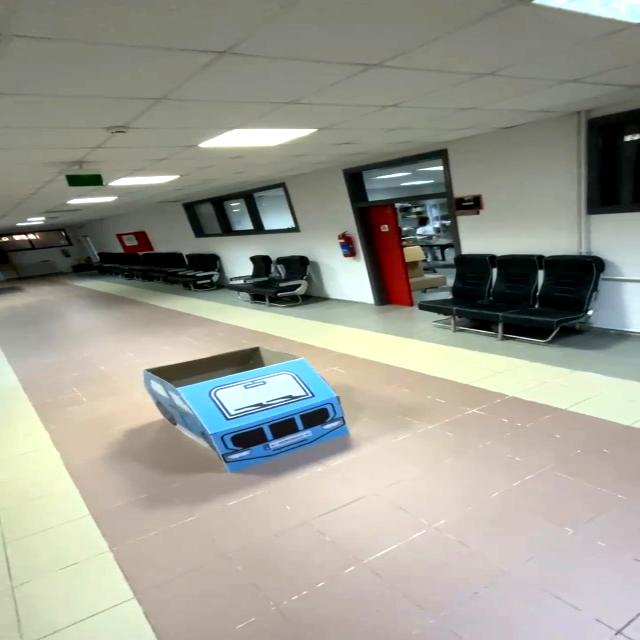blue_car: (123, 326, 367, 483)
